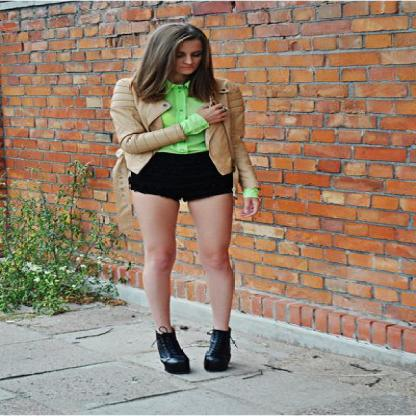shirt: (110, 59, 268, 191)
shoe: (156, 324, 232, 374)
shorts: (128, 145, 236, 207)
